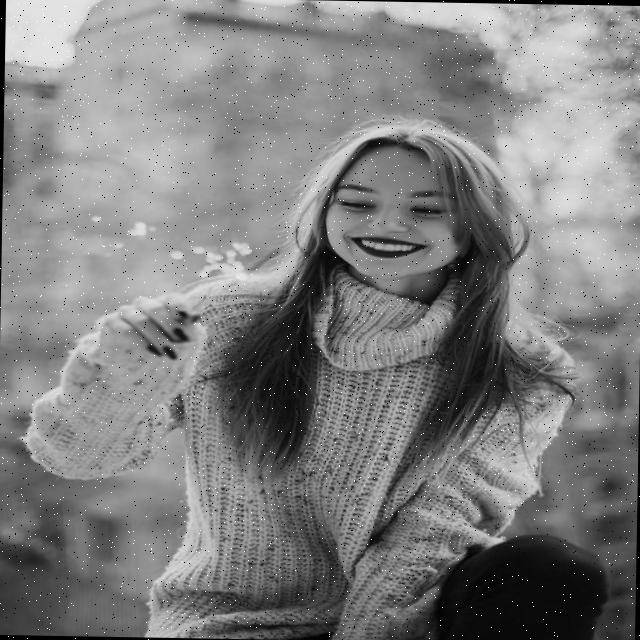Happiness: (322, 142, 464, 283)
